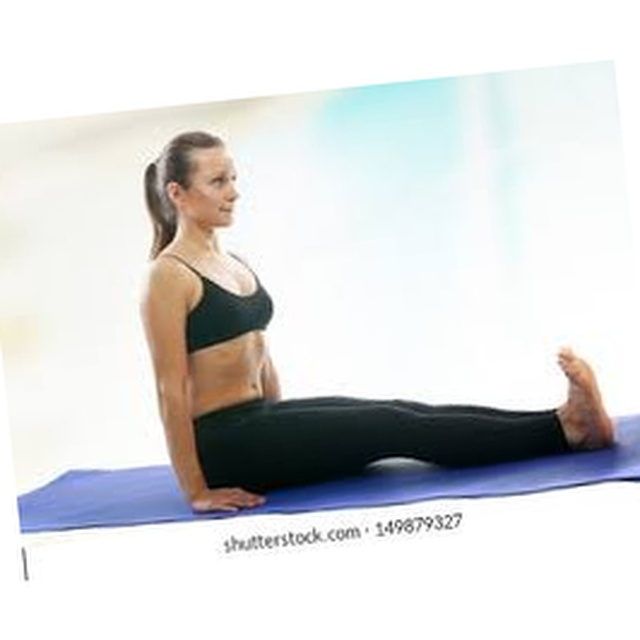Staff_Pose: (140, 129, 618, 515)
